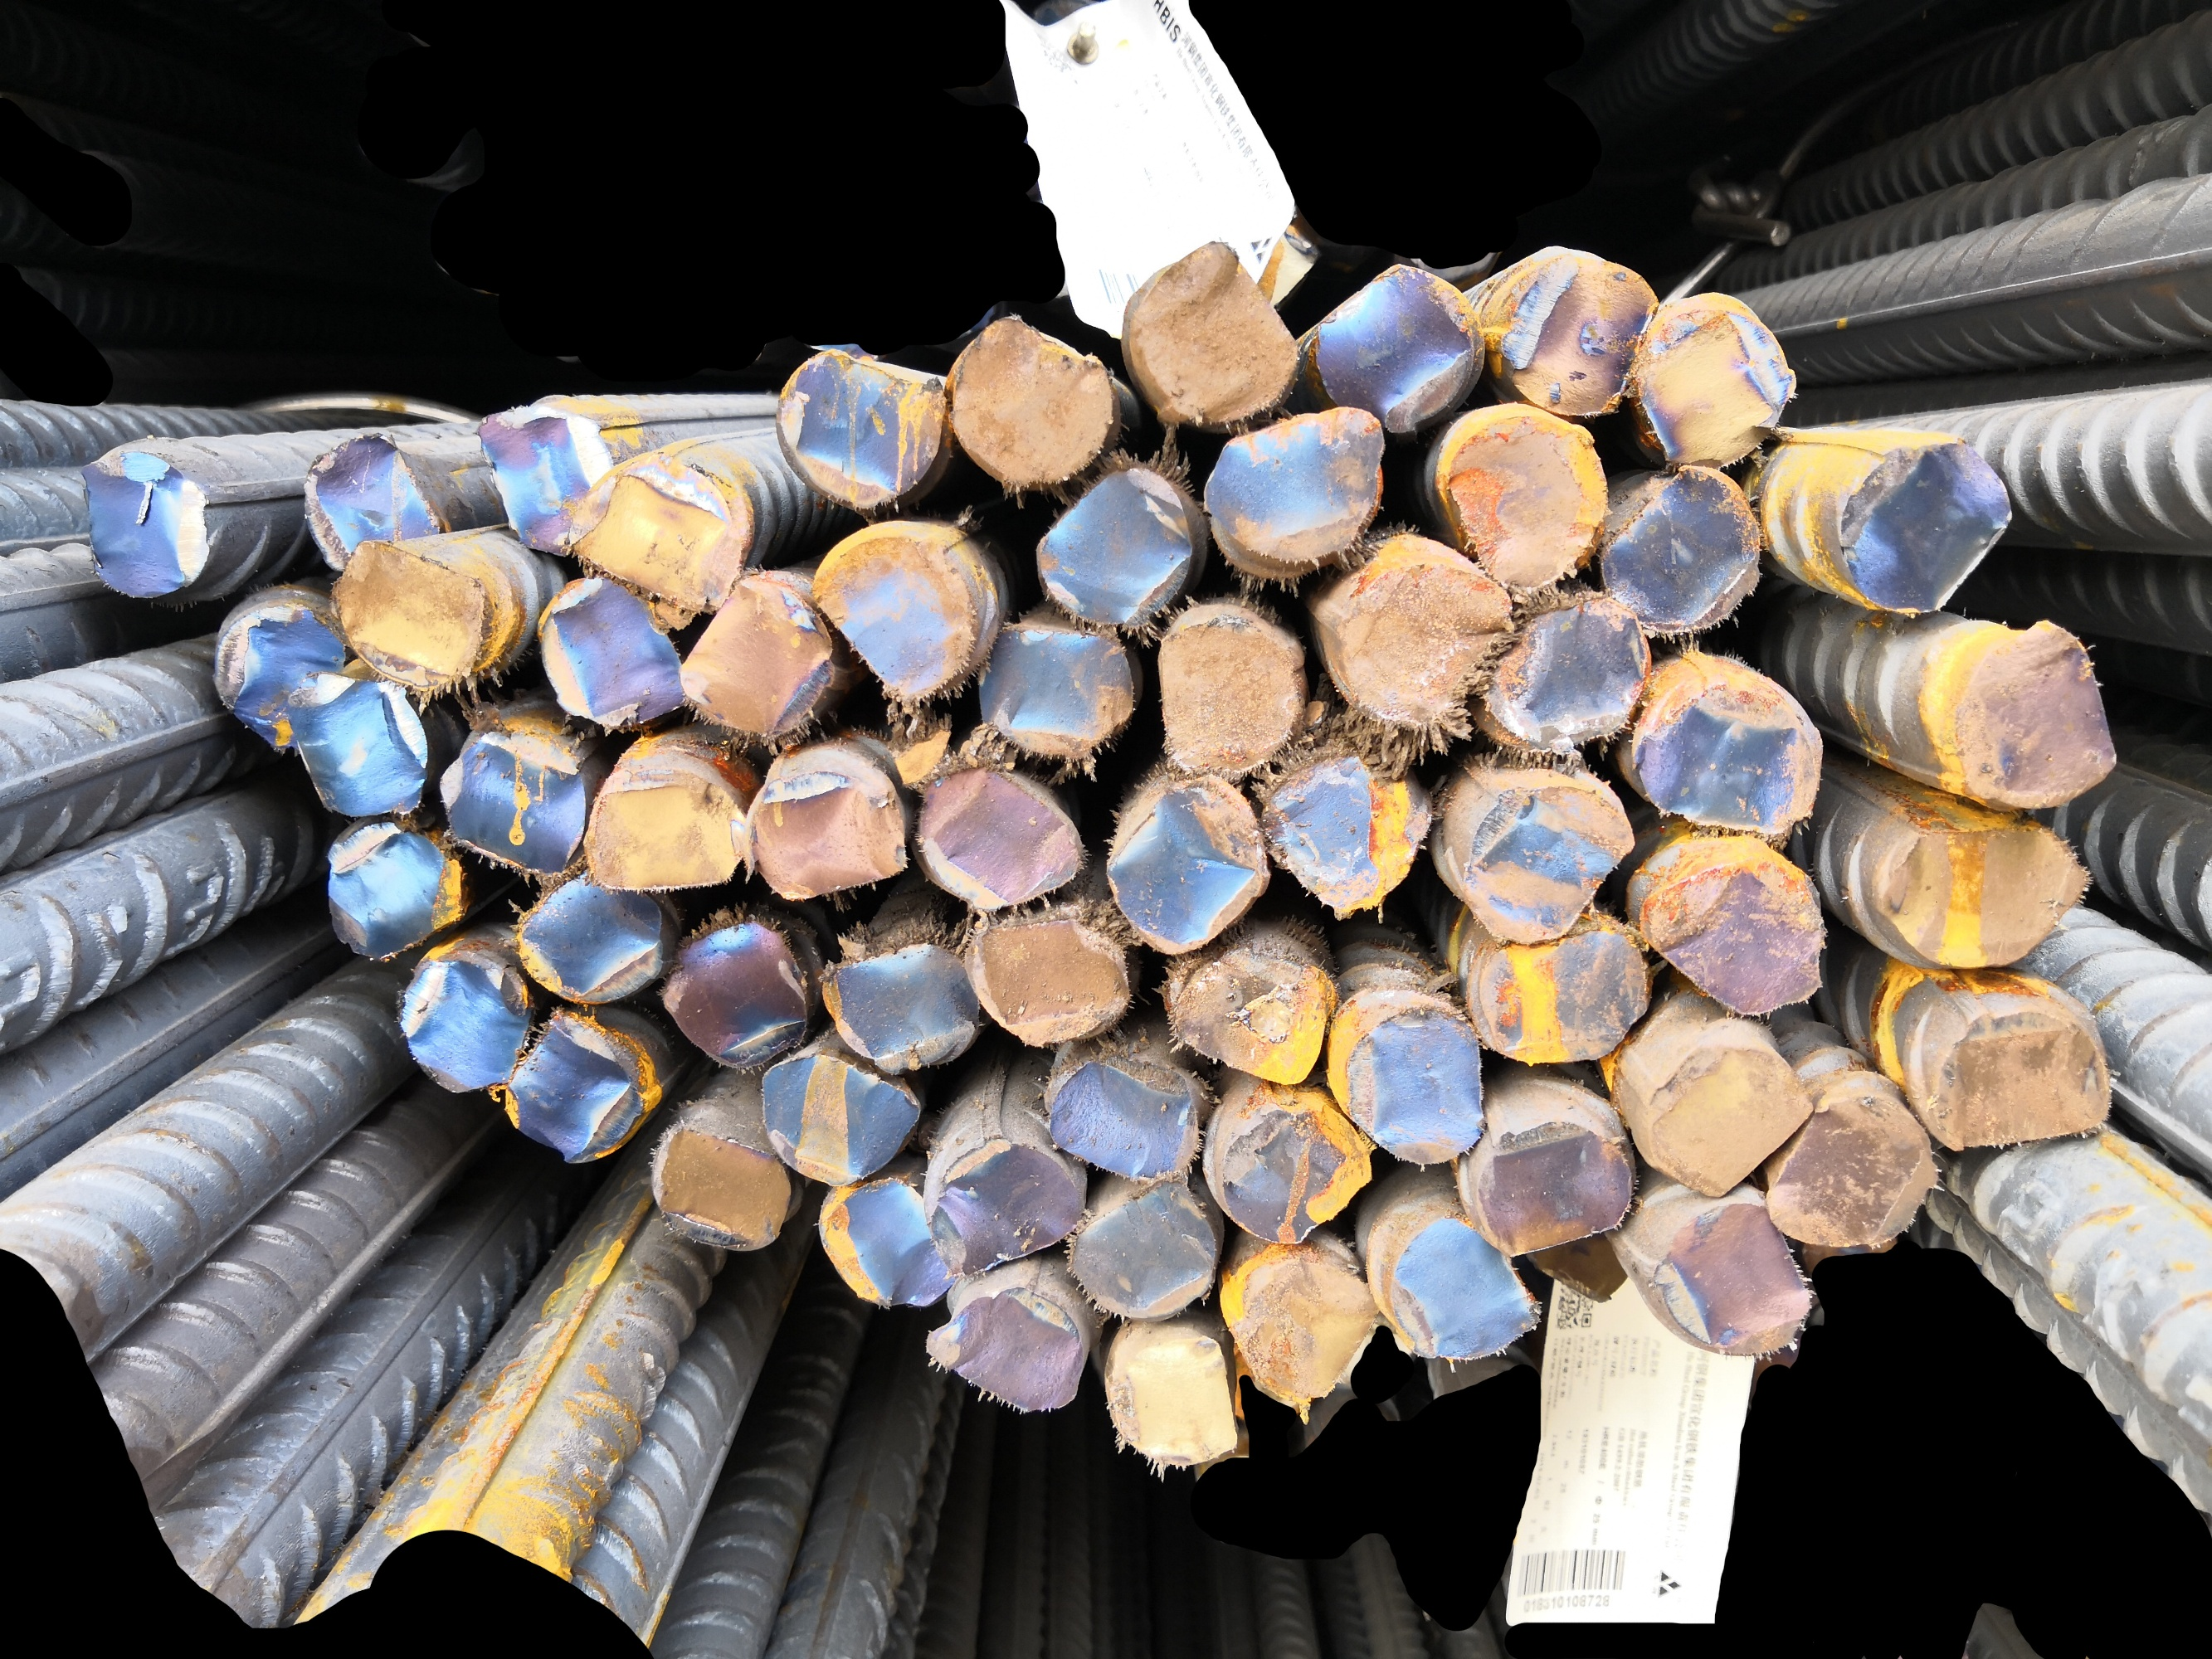rebar: (1325, 526, 1523, 742), (1867, 816, 2104, 972), (1433, 397, 1619, 596), (1123, 234, 1307, 434), (1944, 613, 2125, 816), (1253, 732, 1442, 922), (1829, 432, 2017, 617), (1630, 674, 1830, 845), (1304, 254, 1489, 439), (804, 526, 985, 714), (1201, 397, 1396, 572), (1637, 854, 1834, 1021), (945, 310, 1123, 493), (1490, 242, 1668, 423), (1473, 584, 1656, 758), (1100, 779, 1276, 958), (1759, 1087, 1947, 1255), (1459, 779, 1640, 951), (1591, 462, 1766, 640), (1633, 1040, 1822, 1204), (1633, 291, 1801, 474), (1027, 455, 1199, 631), (769, 347, 948, 516), (671, 566, 838, 748), (908, 749, 1089, 915), (1645, 1192, 1818, 1363), (1462, 920, 1656, 1070), (1154, 608, 1314, 788), (1928, 1004, 2118, 1154), (526, 568, 694, 735), (558, 467, 744, 615), (917, 1131, 1096, 1284), (1335, 995, 1492, 1168), (1229, 1248, 1384, 1422), (326, 535, 493, 695), (1058, 1171, 1225, 1331), (495, 1004, 657, 1168), (652, 911, 816, 1072), (1210, 1094, 1377, 1251), (1377, 1211, 1548, 1364), (814, 931, 987, 1082), (432, 721, 593, 882), (969, 617, 1140, 765), (1161, 945, 1335, 1089), (312, 814, 478, 965), (281, 664, 438, 823), (755, 1047, 926, 1190), (966, 908, 1137, 1051), (1471, 1117, 1642, 1260), (741, 765, 913, 906), (919, 1279, 1089, 1419), (467, 406, 622, 559), (511, 859, 669, 1009), (73, 444, 218, 605), (298, 427, 448, 577), (392, 946, 539, 1098), (1100, 1324, 1245, 1478), (211, 598, 350, 755), (1041, 1054, 1206, 1185), (579, 772, 746, 896), (647, 1117, 797, 1255), (812, 1171, 959, 1310), (1517, 1215, 1654, 1310)
